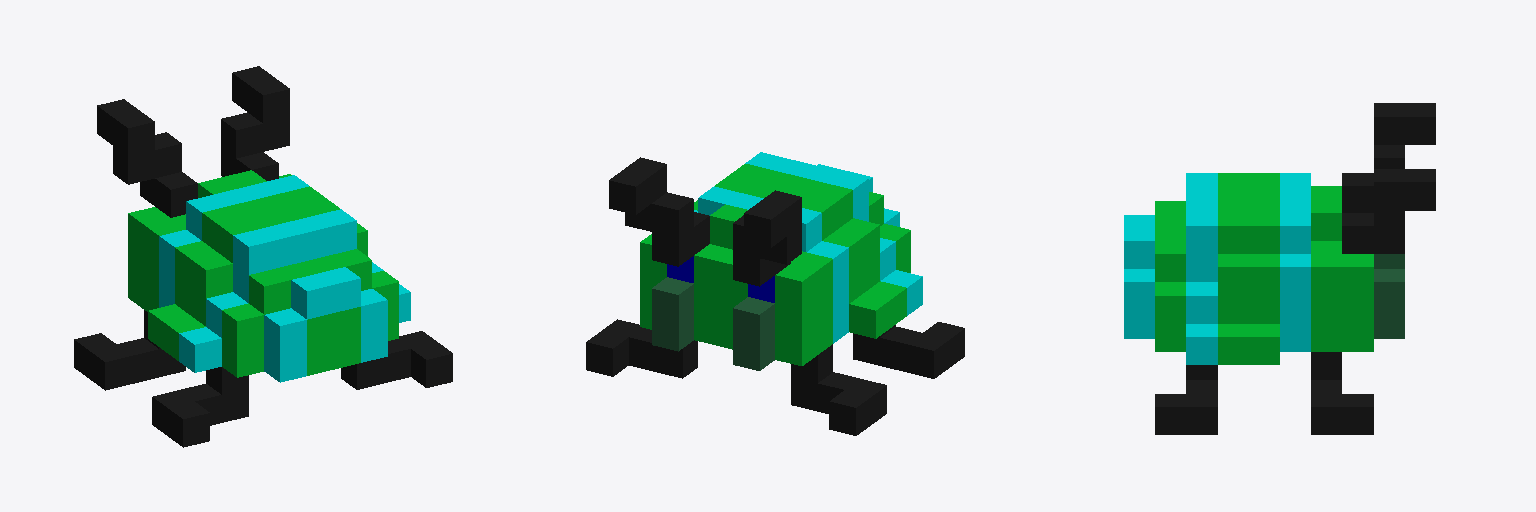
3 renders of one model, left to right at view 1: azimuth 30°, elevation 25°; view 2: azimuth 150°, elevation 25°; view 3: azimuth 270°, elevation 25°, orthographic.
Visible parts, largest first — view 1: object 1; view 2: object 1; view 3: object 1.
Part boxes in pixels (x1,y1,x2,y2): object 1: (74, 66, 452, 447); object 1: (586, 152, 964, 435); object 1: (1124, 103, 1435, 434).
Size of the model in its own units: 1 by 0.8 by 1.
Materials: 1 (1 with a texture image).